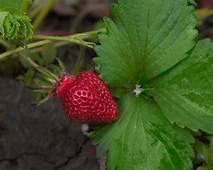Fresa: (54, 67, 123, 129)
